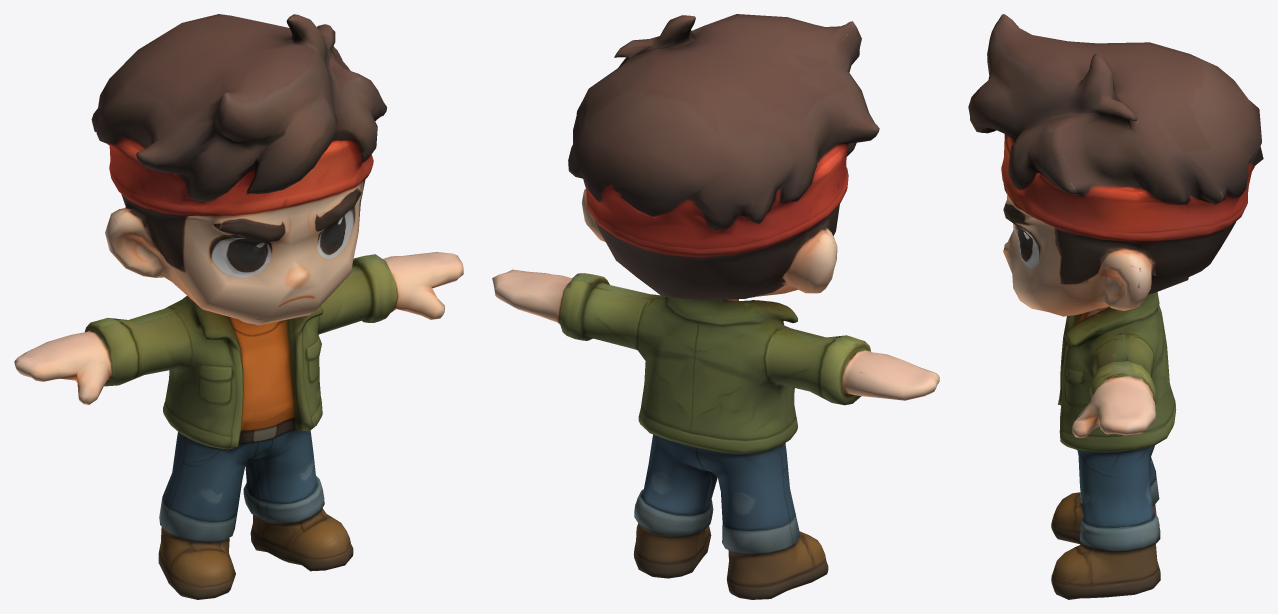
Rendered from Determined_Hero_1213081524_texture.fbx.
3 views of the same model, side by side, from view 1: azimuth 30°, elevation 25°; view 2: azimuth 150°, elevation 25°; view 3: azimuth 270°, elevation 25° (orthographic). The views are drawn at different scales.
Parts seen in each view (by area): view 1: Mesh1.0; view 2: Mesh1.0; view 3: Mesh1.0.
Boxes of the visible parts, x1=… form: Mesh1.0: x1=14, y1=14, x2=463, y2=599; Mesh1.0: x1=492, y1=14, x2=939, y2=599; Mesh1.0: x1=968, y1=14, x2=1263, y2=599.
Bounding box in the file's own units: 163 × 191 × 97.43.
Materials: 1 (1 with a texture image).
